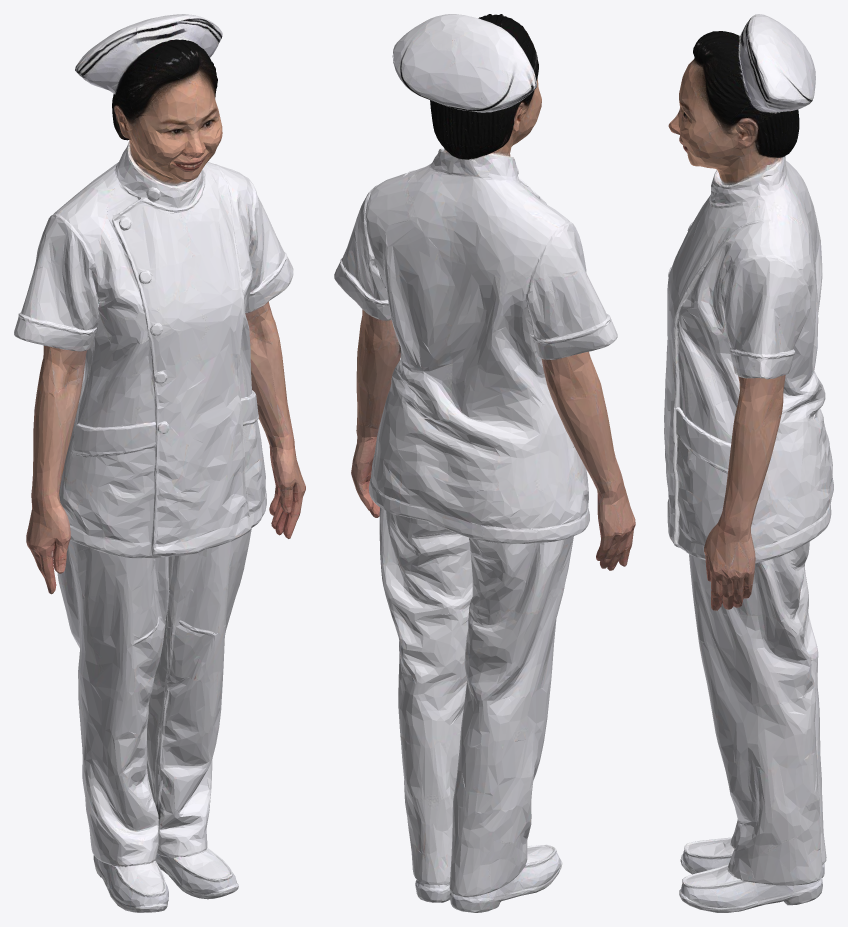
Rendered from chung3d.glb.
3 views of the same model, side by side, from view 1: azimuth 30°, elevation 25°; view 2: azimuth 150°, elevation 25°; view 3: azimuth 270°, elevation 25° (orthographic).
Bounding box in the file's own units: 0.6422 × 1.9 × 0.3384.
Materials: 1 (1 with a texture image).
